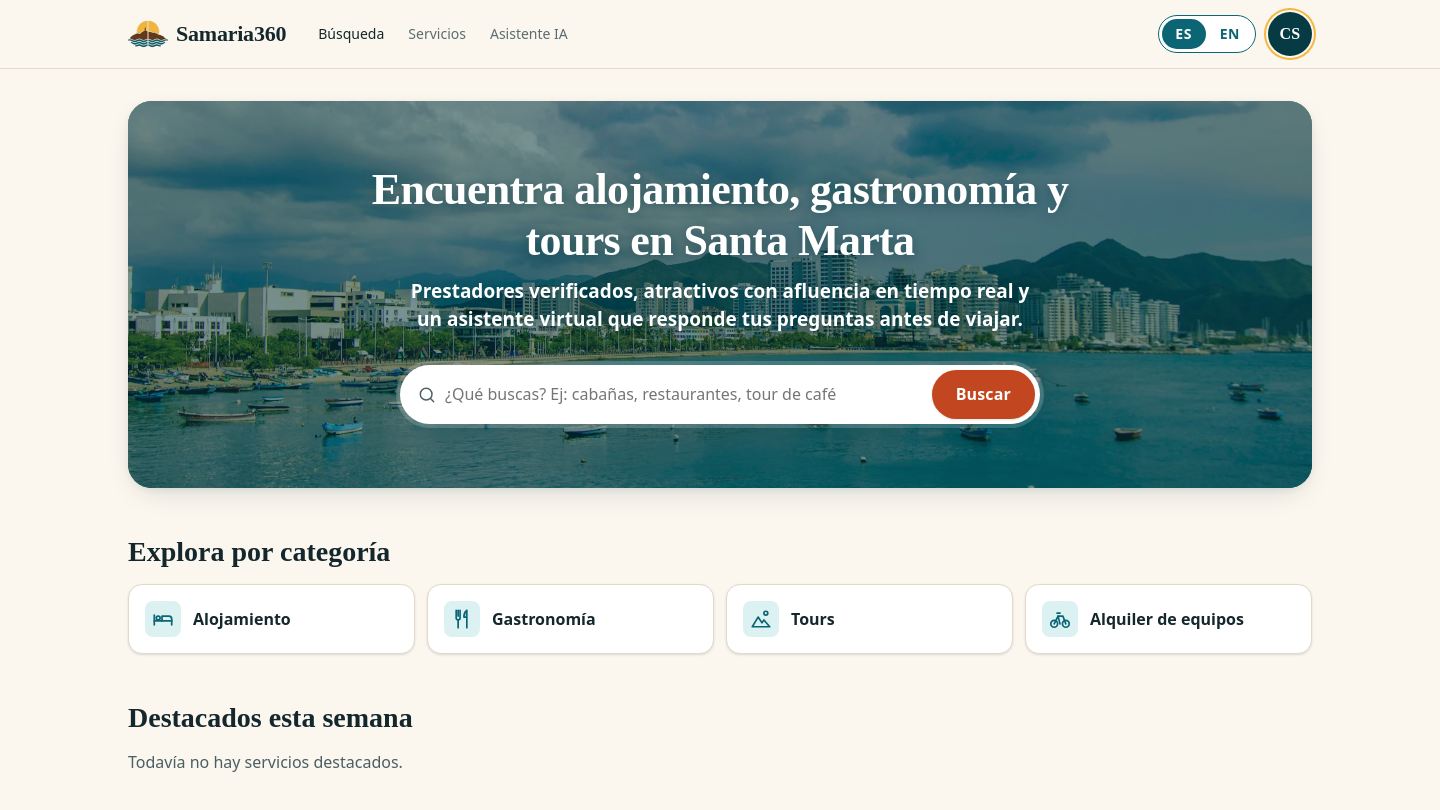
Test: Historial de reservas del Prestador (RF12) › el menú lleva al historial; sin filtros consulta la página 0 y muestra las reservas sin datos del Turista
Click the button with aria-label "Menú de usuario de Casa Tayrona SAS".
click(1290, 34)  # box 1268,12 -> 1312,56
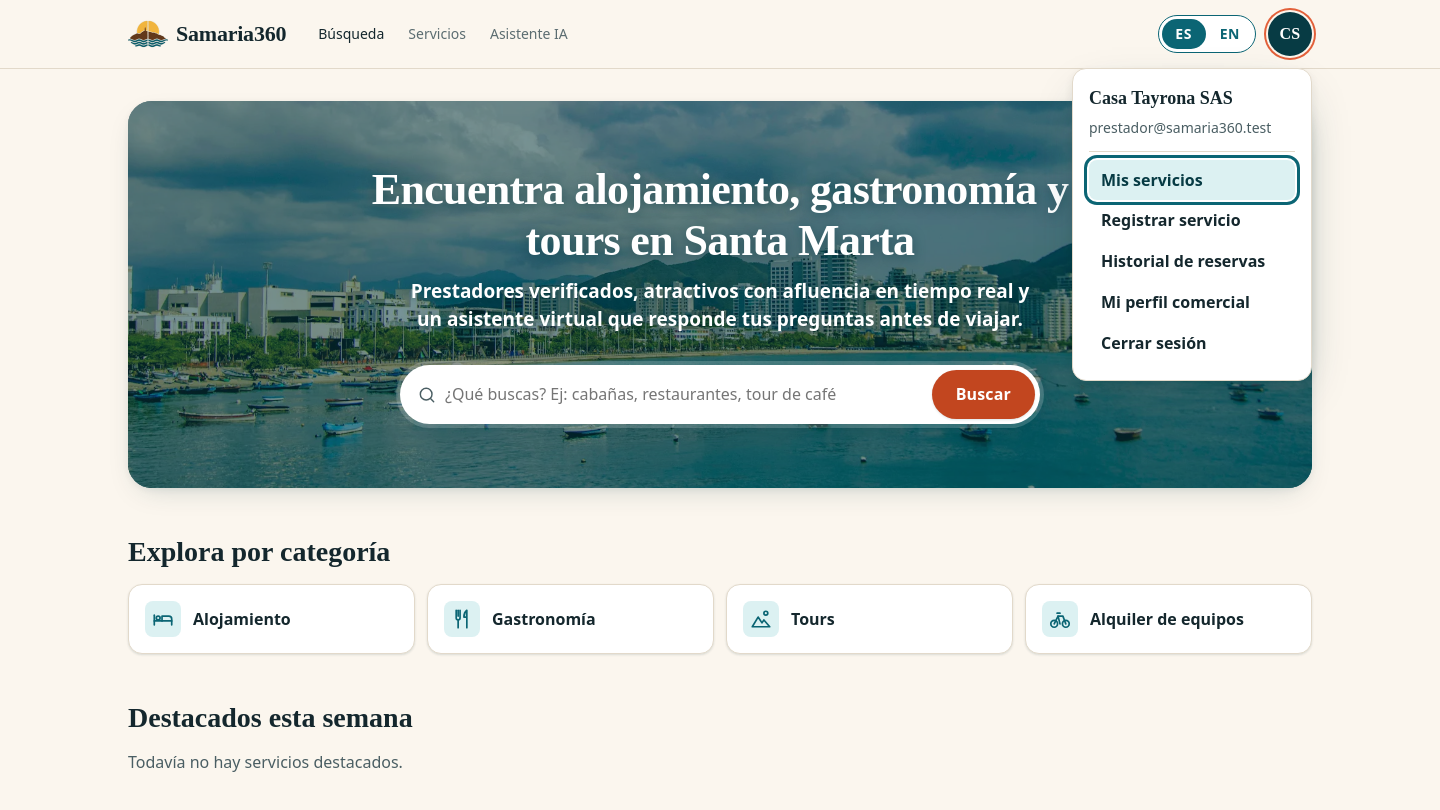
Click the menu item "Historial de reservas".
click(1183, 261)  # box 1101,250 -> 1265,272
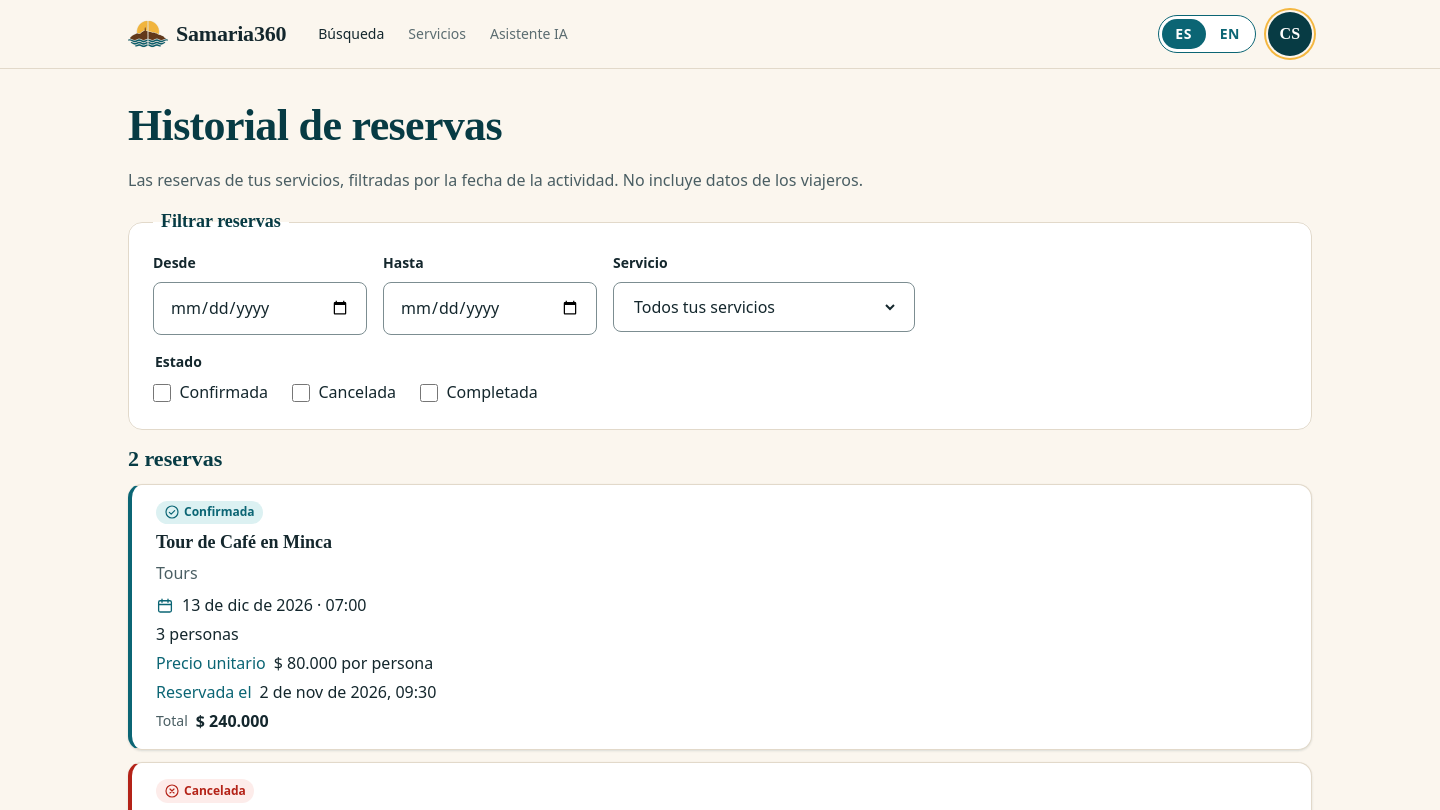
Now the heading "Historial de reservas" is shown, box 128,101 -> 502,150
Now the heading "2 reservas" is shown, box 128,446 -> 222,471
Now the heading "Tour de Café en Minca" is shown, box 156,532 -> 332,552
